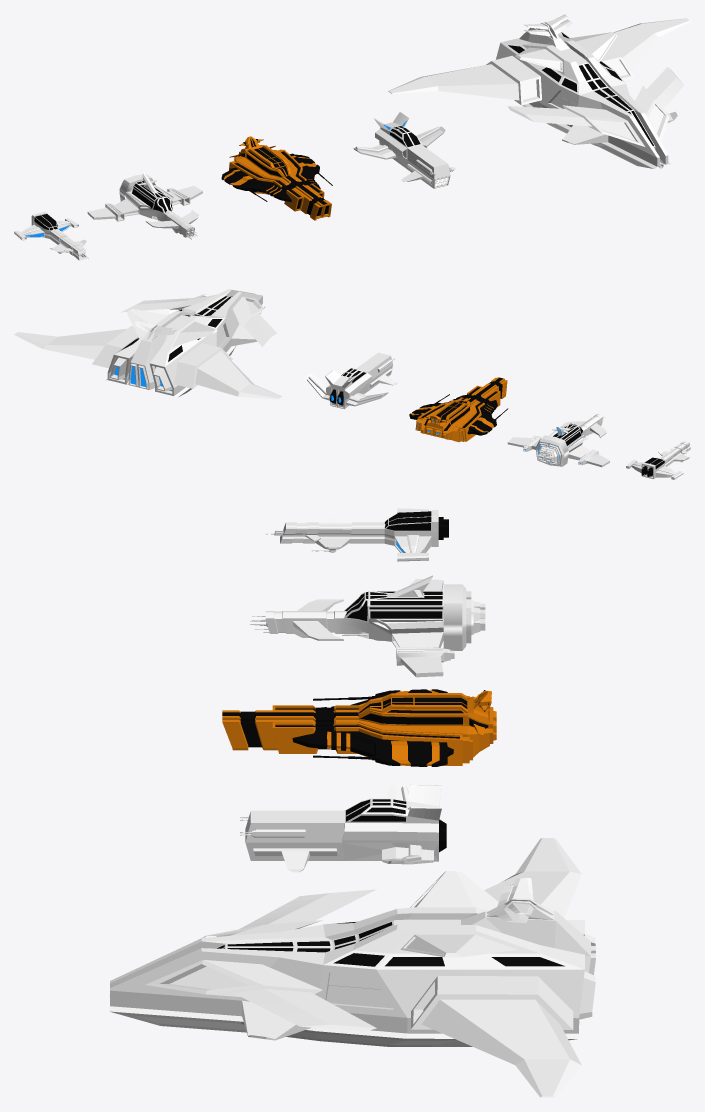
The picture shows the model from 3 angles, top to bottom: view 1: azimuth 30°, elevation 25°; view 2: azimuth 150°, elevation 25°; view 3: azimuth 270°, elevation 25°; orthographic projection. The views are drawn at different scales.
Visible parts, largest first — view 1: craft5_0, craft3_2, craft2_3, Craft4_1, craft1_4; view 2: craft5_0, craft3_2, craft2_3, Craft4_1, craft1_4; view 3: craft5_0, craft3_2, Craft4_1, craft2_3, craft1_4.
Part boxes in pixels (x1,y1,x2,y2): craft5_0: [388, 14, 690, 168]; craft3_2: [221, 136, 332, 220]; craft2_3: [87, 172, 202, 239]; Craft4_1: [353, 112, 455, 188]; craft1_4: [14, 211, 88, 260]; craft5_0: [14, 289, 282, 399]; craft3_2: [409, 377, 508, 442]; craft2_3: [507, 414, 609, 467]; Craft4_1: [307, 352, 397, 409]; craft1_4: [626, 441, 690, 479]; craft5_0: [109, 838, 595, 1097]; craft3_2: [222, 689, 496, 766]; Craft4_1: [240, 784, 446, 872]; craft2_3: [250, 575, 485, 677]; craft1_4: [264, 508, 448, 561].
Size of the model in its own units: 169 by 15.44 by 56.58.
